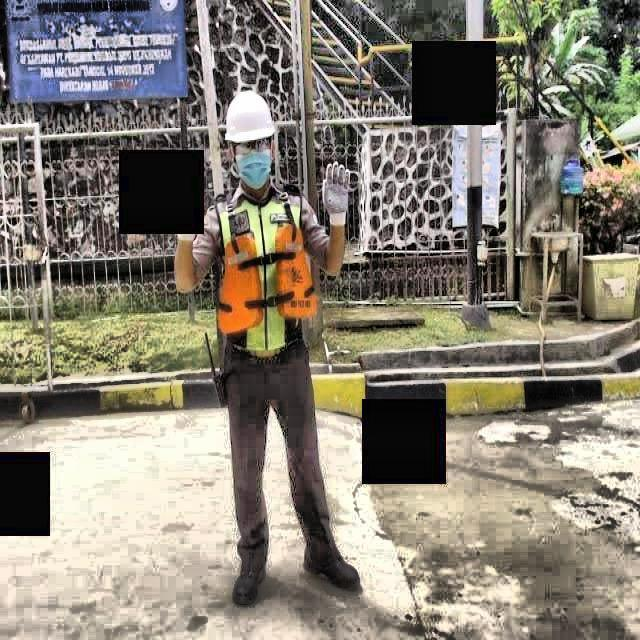safety_helmet: (218, 81, 279, 152)
safety_jacket: (215, 187, 313, 357)
